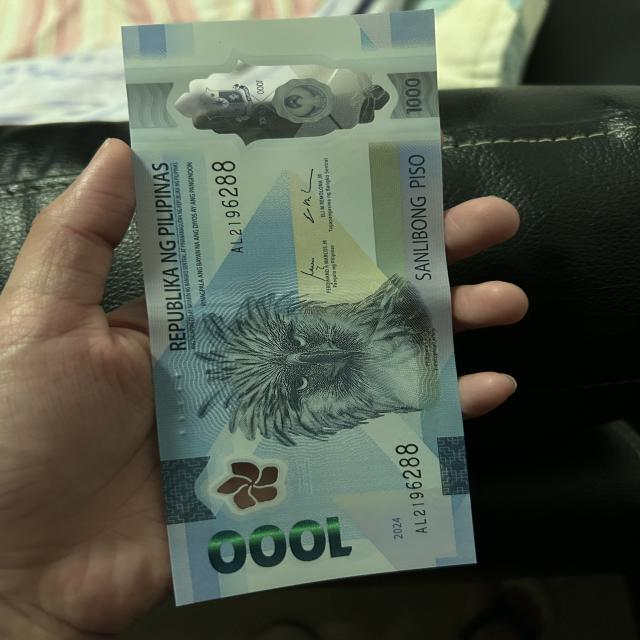clear_window: (152, 59, 410, 148)
eagle: (185, 298, 442, 448)
sampaguita: (213, 462, 286, 512)
